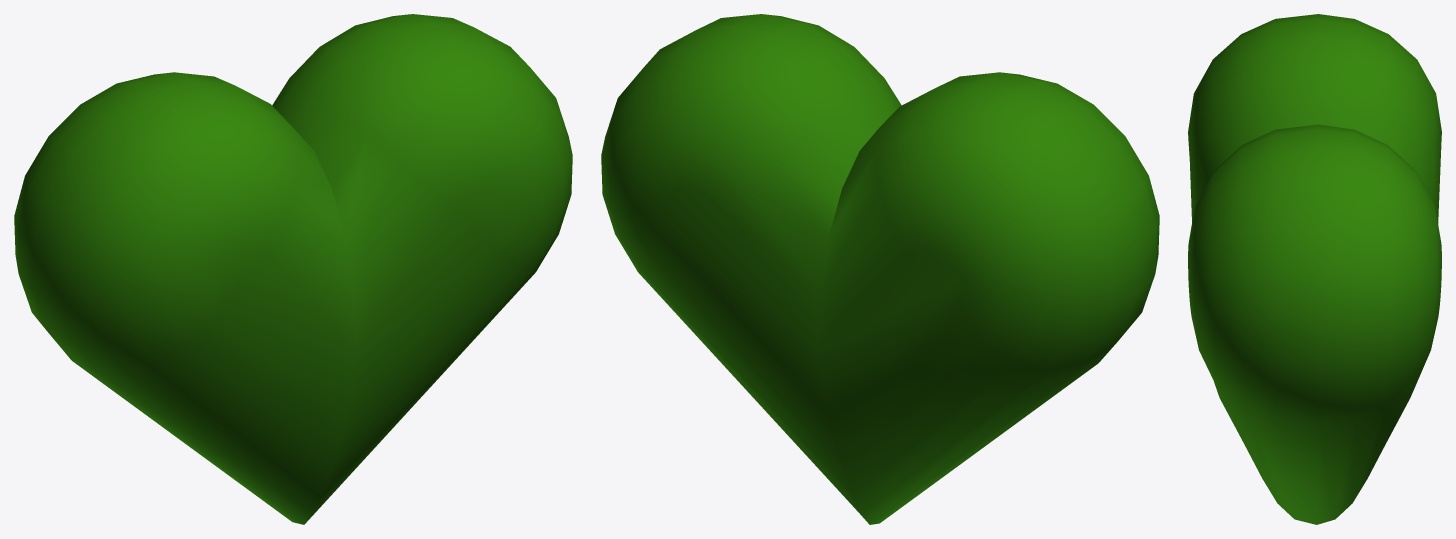
File: Heart_V3_0.fbx
The picture shows the model from 3 angles, left to right: view 1: azimuth 30°, elevation 25°; view 2: azimuth 150°, elevation 25°; view 3: azimuth 270°, elevation 25°; orthographic projection. The views are drawn at different scales.
Parts seen in each view (by area): view 1: Heart_V3_0; view 2: Heart_V3_0; view 3: Heart_V3_0.
Boxes of the visible parts, x1,y1,x2,y2 form: Heart_V3_0: (14, 14, 572, 524); Heart_V3_0: (601, 14, 1159, 524); Heart_V3_0: (1188, 14, 1441, 524).
Size of the model in its own units: 0.5013 by 0.429 by 0.2243.
